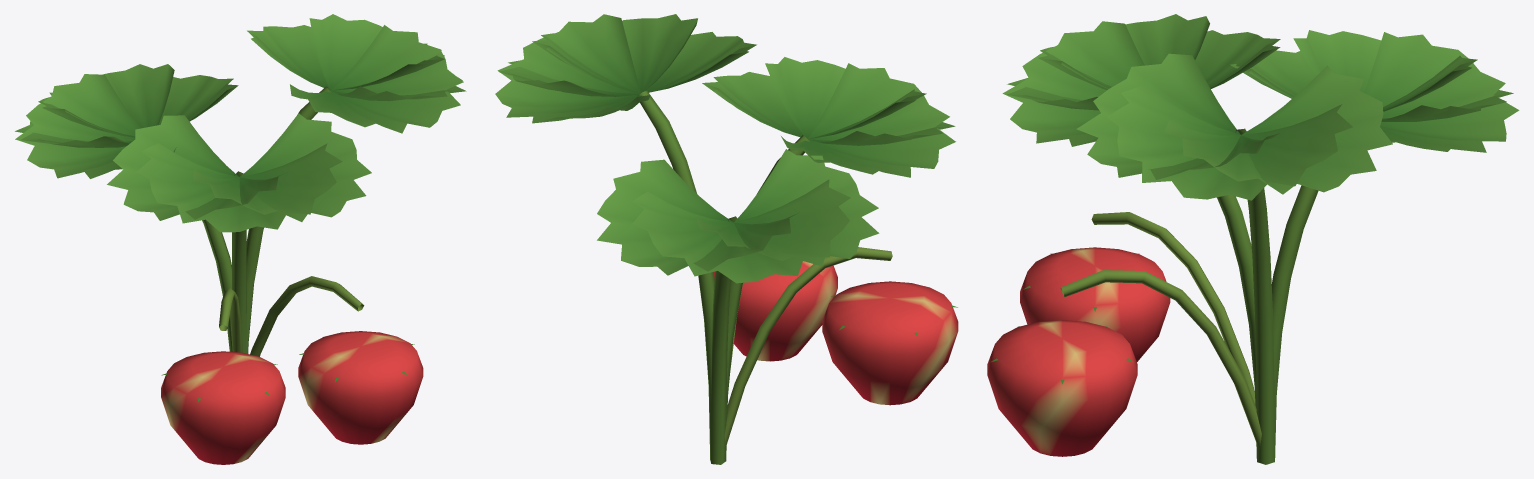
File: Strawberry.fbx
3 renders of one model, left to right at view 1: azimuth 30°, elevation 25°; view 2: azimuth 150°, elevation 25°; view 3: azimuth 270°, elevation 25°, orthographic. The views are drawn at different scales.
Visible parts, largest first — view 1: Strawberry; view 2: Strawberry; view 3: Strawberry.
Part boxes in pixels (left/top/right/bottom): Strawberry: left=15, top=14, right=466, bottom=464; Strawberry: left=495, top=14, right=958, bottom=464; Strawberry: left=987, top=14, right=1519, bottom=464.
Size of the model in its own units: 2.67 by 2.41 by 2.79.
